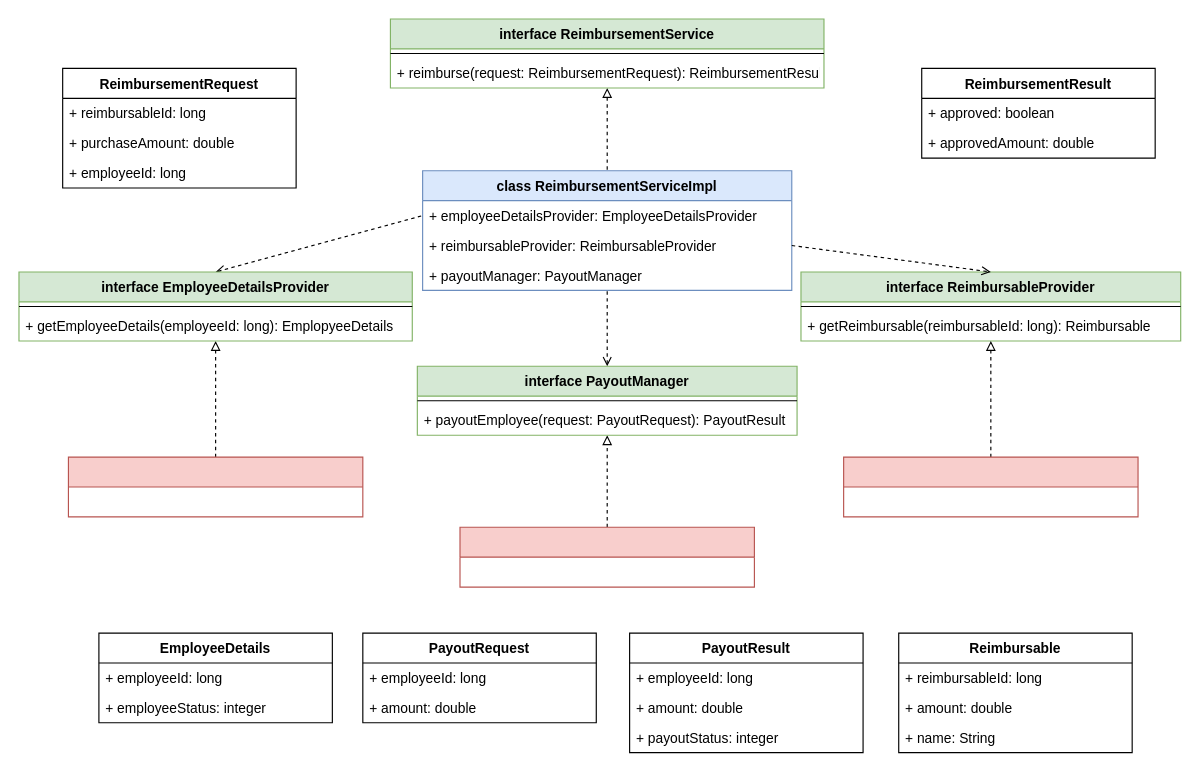
The diagram is 1199 pixels wide and 772 high, and some of its shapes have lost their labels. Here are the shapes that lost their labels. From the top down, the centre of each, then its label:
At [215,486]: "class EmployeeDetailsProviderImpl".
At [990,486]: "class ReimbursableProviderImpl".
At [606,556]: "class PayoutManagerImpl".
